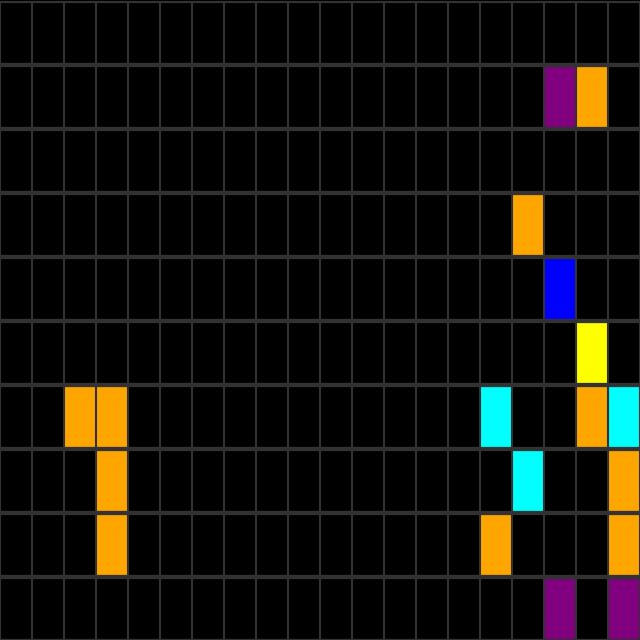Tetrimino_I: (62, 384, 126, 578)
